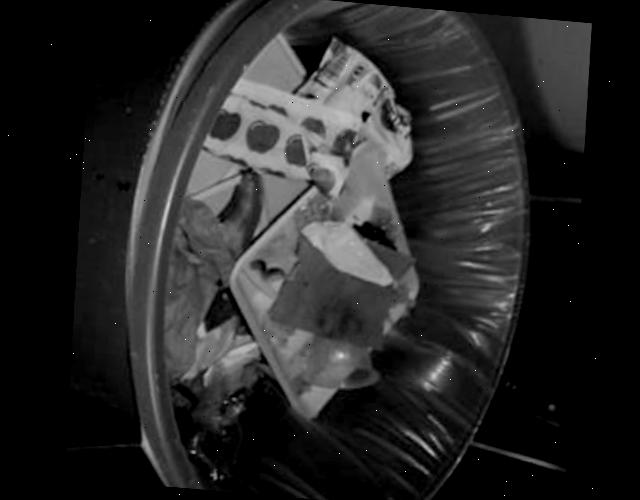Disposable: (227, 141, 417, 416)
Garbage: (161, 34, 417, 479)
Plastic_Bag: (203, 78, 359, 194), (297, 36, 411, 175)
